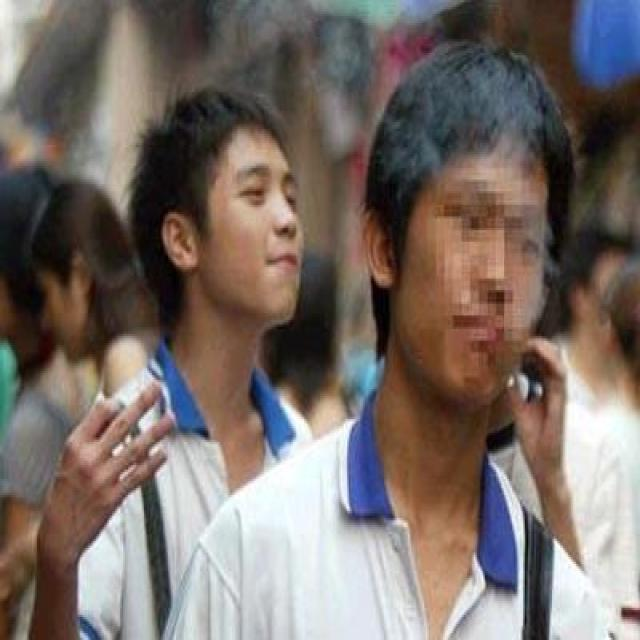cigarette: (82, 378, 134, 435)
